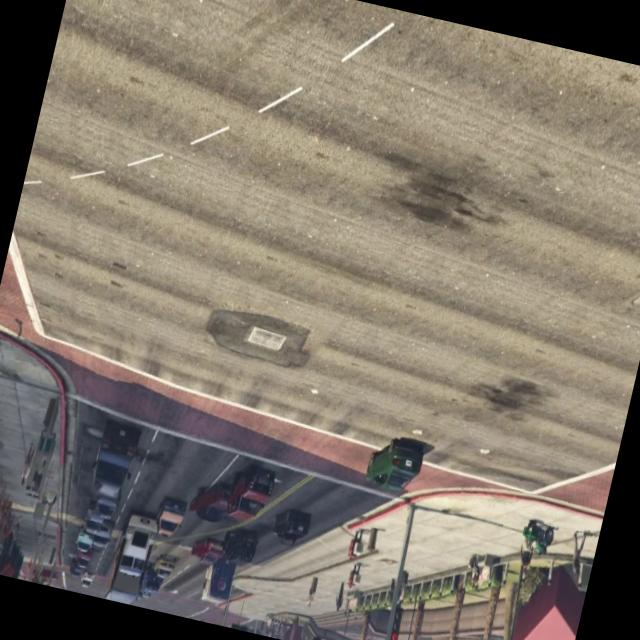Green-Signal: (226, 613, 256, 633)
Red-Signal: (378, 582, 417, 640), (225, 608, 258, 633), (305, 621, 335, 640)
